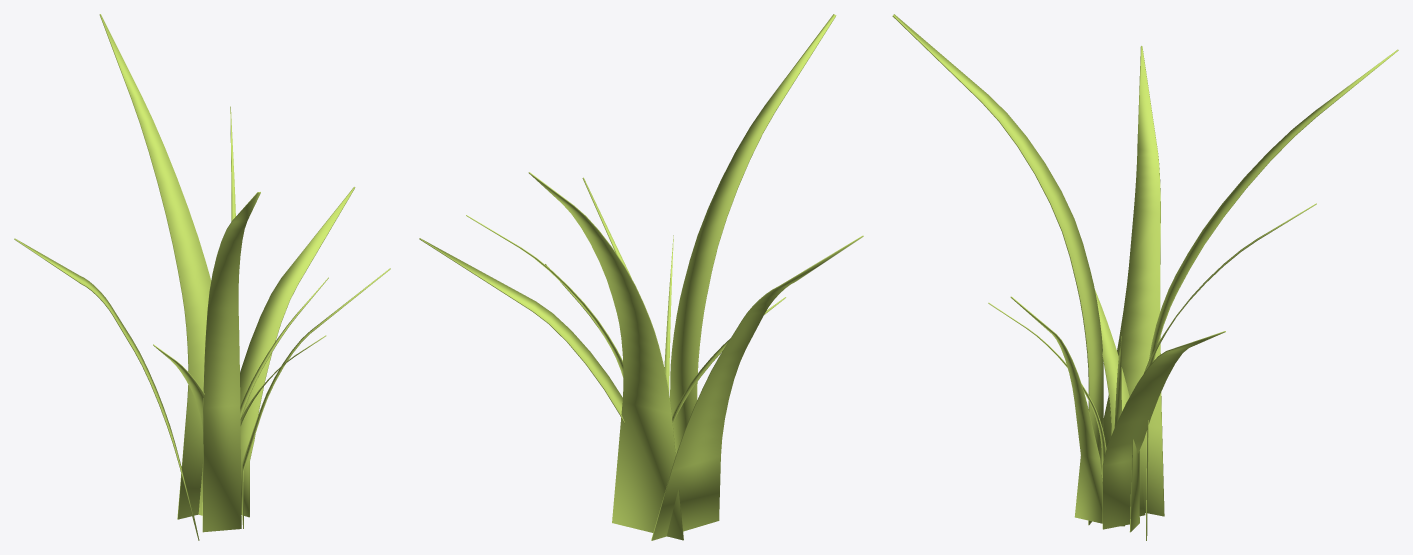
The model's file is Grass_High_plus.fbx.
3 views of the same model, side by side, from view 1: azimuth 30°, elevation 25°; view 2: azimuth 150°, elevation 25°; view 3: azimuth 270°, elevation 25° (orthographic). The views are drawn at different scales.
Parts seen in each view (by area): view 1: Plane; view 2: Plane; view 3: Plane.
Part boxes in pixels (left/top/right/bottom): Plane: left=14, top=14, right=390, bottom=540; Plane: left=419, top=14, right=863, bottom=540; Plane: left=892, top=14, right=1398, bottom=540.
Bounding box in the file's own units: 45.13 × 47.6 × 46.08.
